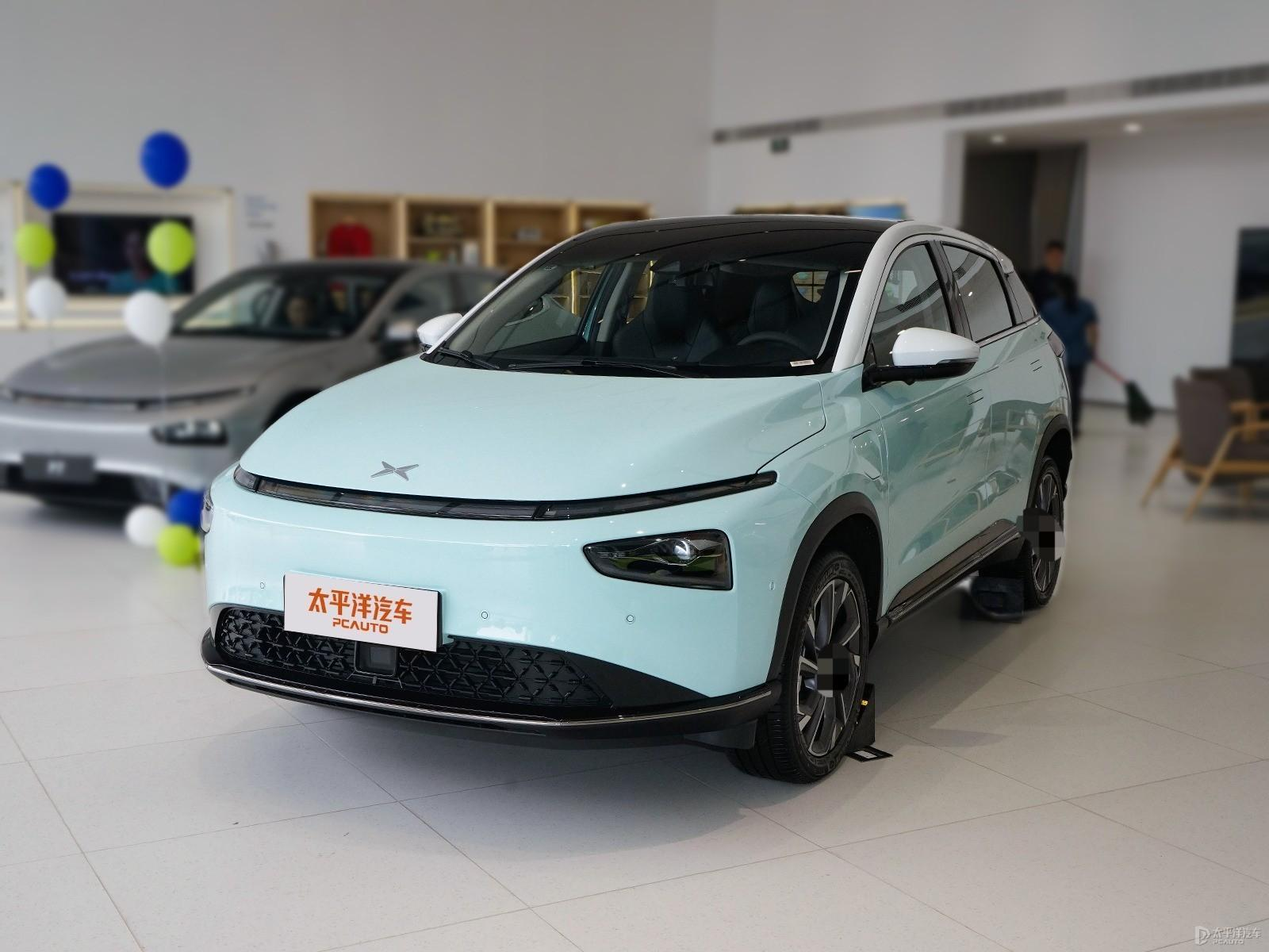XPeng Motors: (370, 461, 419, 481)
